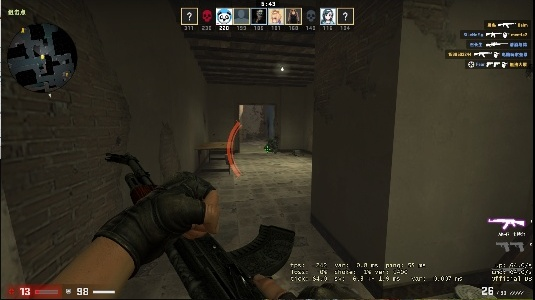body: (263, 136, 278, 154)
